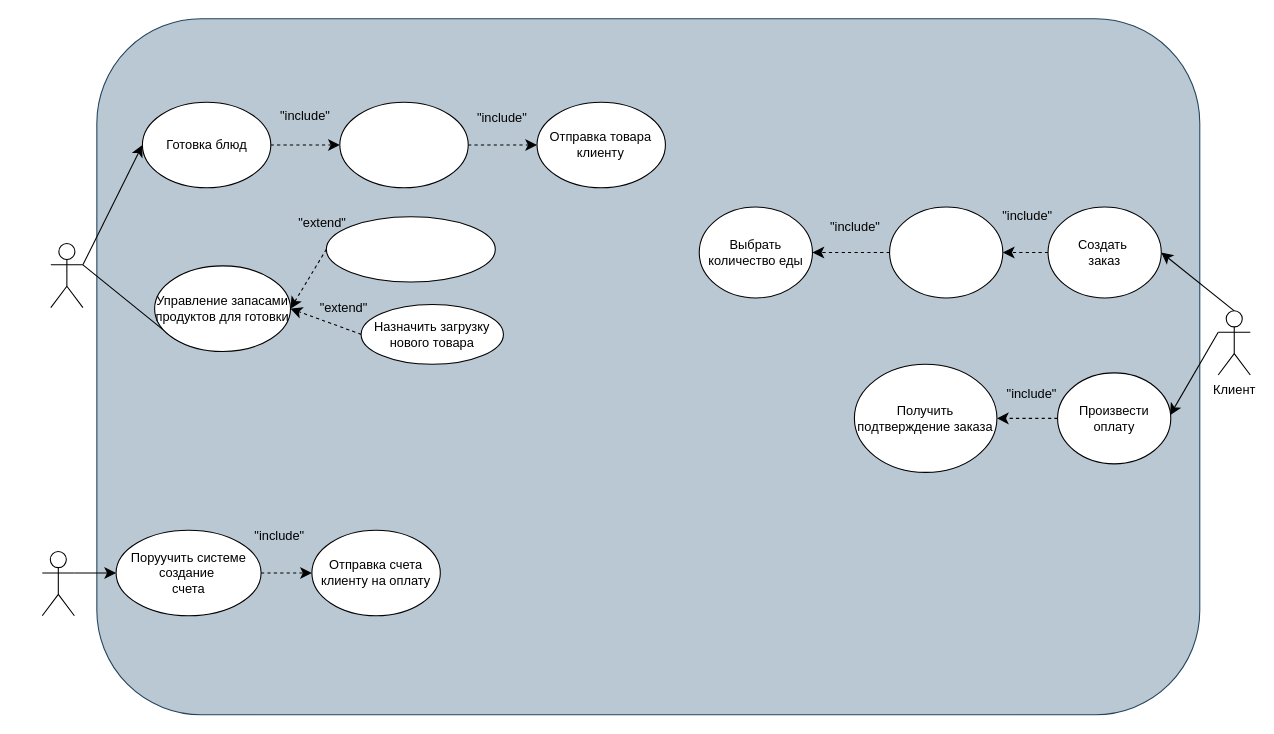
The diagram is 1274 pixels wide and 734 high, and some of its shapes have lost their labels. Each missing label, with the box of its shape:
Выбрать еду: (889, 206, 1003, 298)
Повара: (50, 242, 83, 308)
Подготавливание заказа системой: (339, 101, 468, 188)
Поручить удаление старого товара: (325, 216, 495, 282)
Финансовый менеджер: (41, 551, 74, 616)
